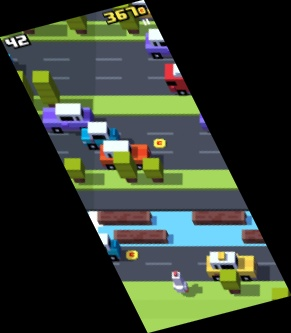car: (145, 28, 199, 59), (206, 251, 259, 281), (41, 105, 97, 132), (98, 140, 150, 169), (71, 233, 123, 261), (81, 122, 117, 147), (199, 107, 232, 132)
coin: (153, 137, 167, 151), (125, 250, 138, 260)
duck: (170, 271, 189, 294)
tree: (31, 70, 61, 110), (111, 1, 139, 34), (112, 151, 139, 182), (63, 3, 87, 35), (14, 71, 34, 109), (141, 158, 165, 182), (64, 158, 85, 183), (220, 271, 240, 294), (273, 288, 291, 309)
truck: (164, 60, 230, 95), (191, 209, 248, 224), (97, 210, 154, 225), (114, 230, 170, 244), (243, 230, 276, 243)
